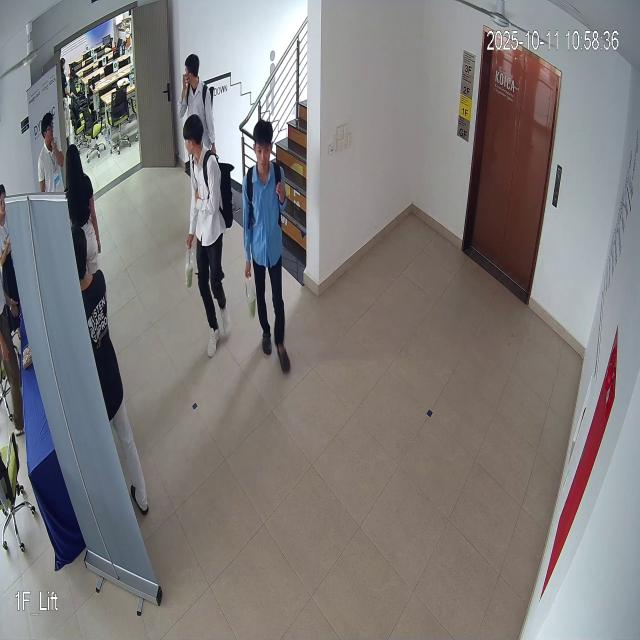face: (250, 112, 277, 171)
